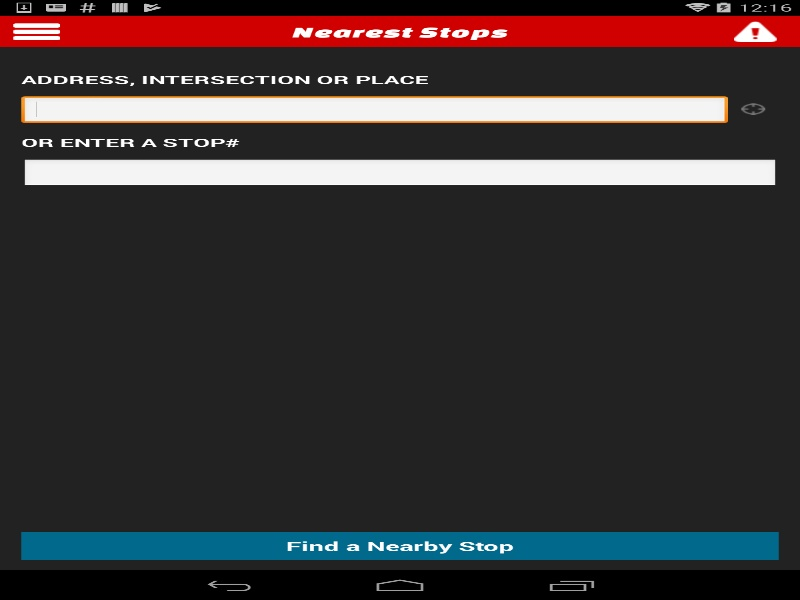Button: (21, 531, 778, 560), (0, 17, 73, 46), (728, 97, 778, 120)
Input: (21, 158, 778, 188), (21, 95, 728, 125)
